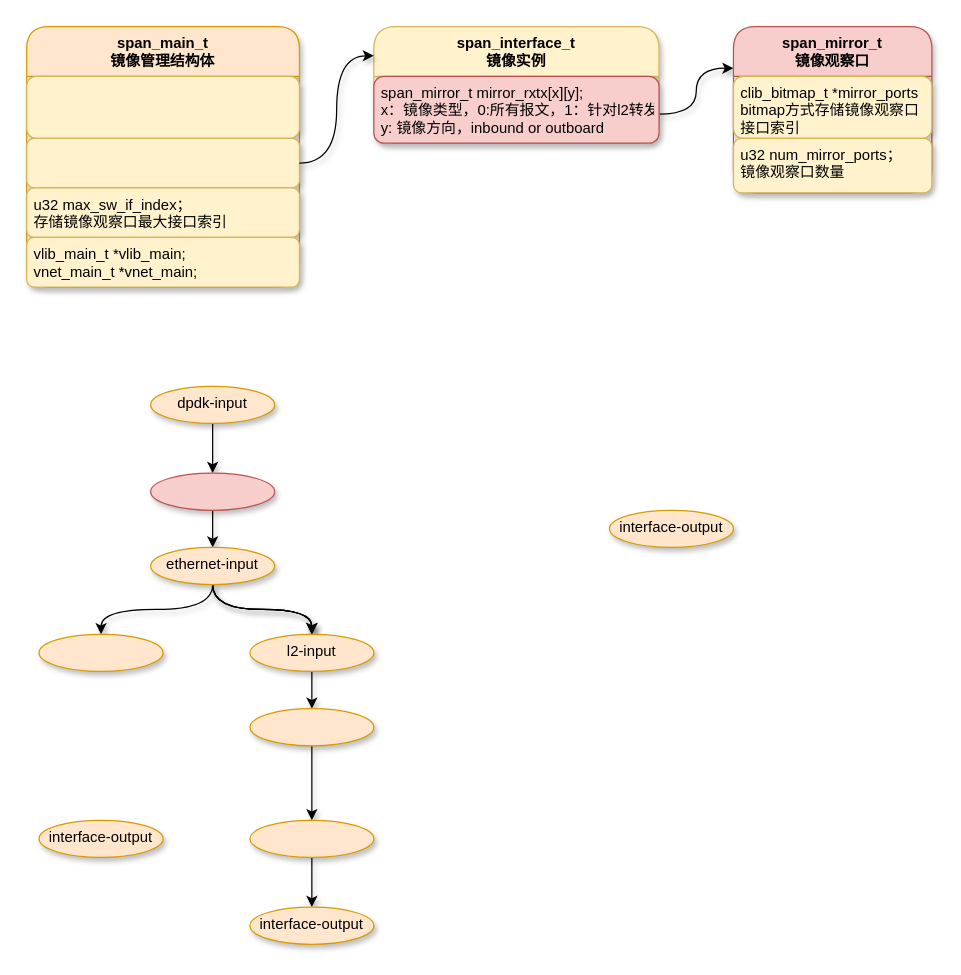
Some shapes in this 961 by 975 pixel diagram are drawn without their labels. Each missing label, with the centre of its shape:
"ip4-input" belongs at pixel 101 654.
"l2-output" belongs at pixel 312 840.
"span-input" belongs at pixel 213 493.
"span-l2-input" belongs at pixel 312 728.
"span_interface_t *interfaces; vec结构，以镜像镜像口索引。" belongs at pixel 163 164.
"u32 l2_input_next[32]; u32 l2_output_next[32]; L2层镜像存储feature信息。" belongs at pixel 163 108.
